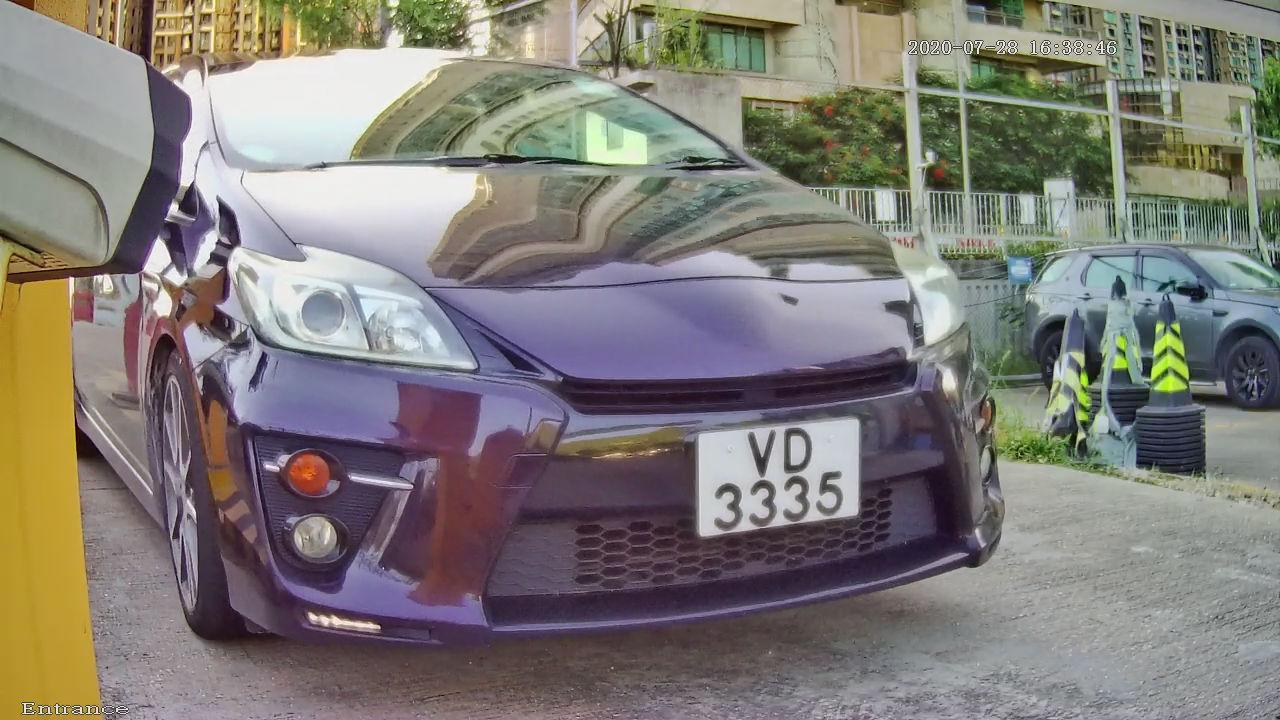privatecar: (41, 23, 1138, 701)
